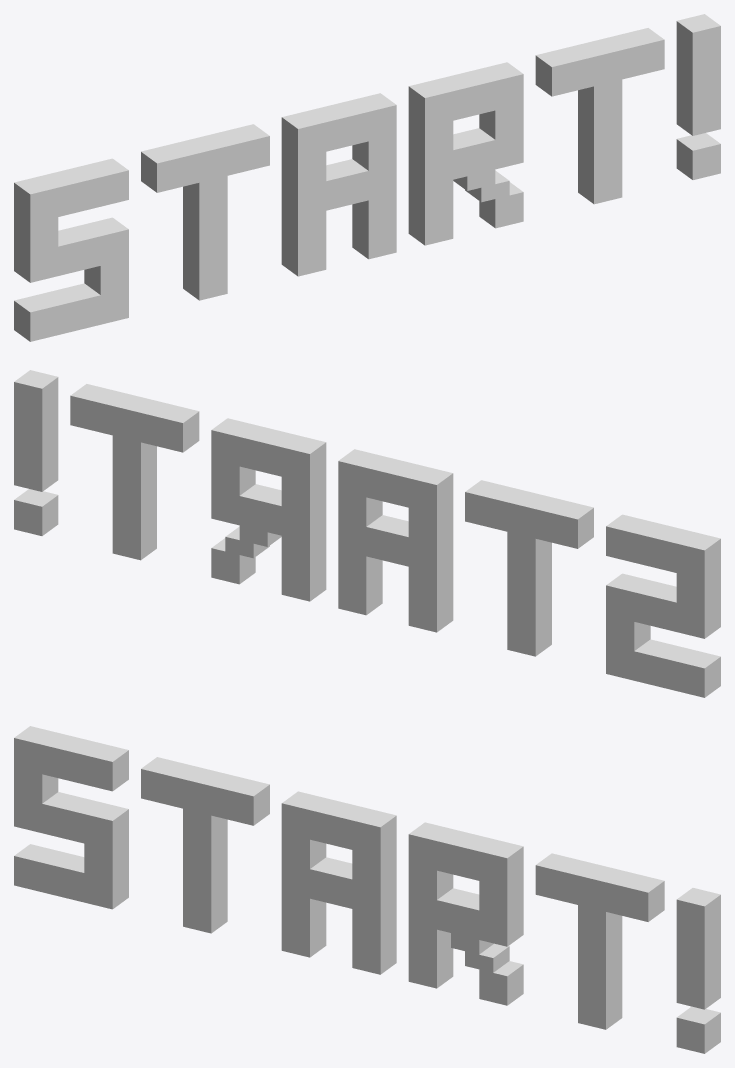
The model's file is start.obj.
3 views of the same model, one above another, from view 1: azimuth 30°, elevation 25°; view 2: azimuth 150°, elevation 25°; view 3: azimuth 330°, elevation 25° (orthographic).
Visible parts, largest first — view 1: Matrix; view 2: Matrix; view 3: Matrix.
Part boxes in pixels (x1,y1,x2,y2): Matrix: [14, 14, 720, 341]; Matrix: [14, 370, 720, 697]; Matrix: [14, 726, 720, 1053].
Size of the model in its own units: 49 by 10 by 2.
1 material, 1 textured.
